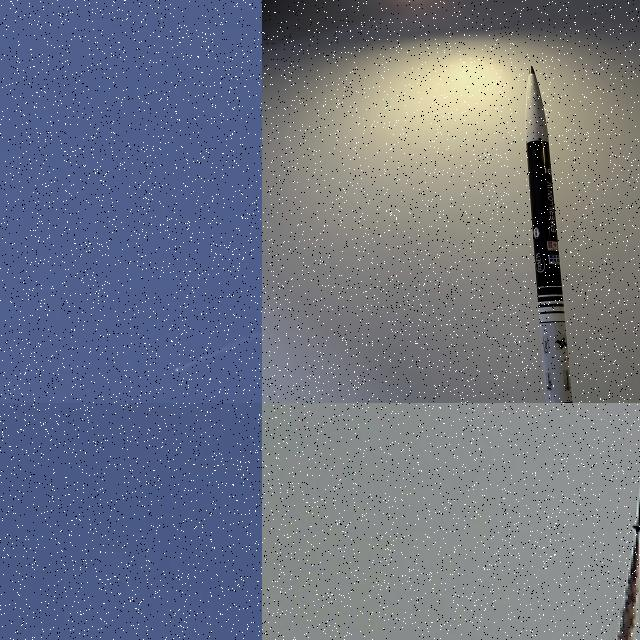Rocket: (525, 65, 573, 403), (629, 453, 640, 533), (174, 368, 178, 372)
